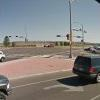Car: (68, 46, 100, 90)
